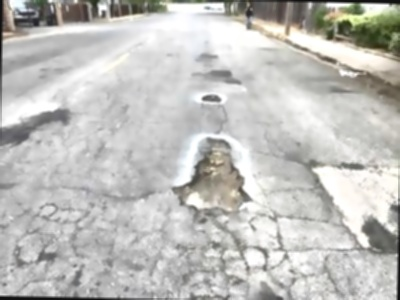pothole: (175, 136, 253, 213), (201, 91, 224, 103)
